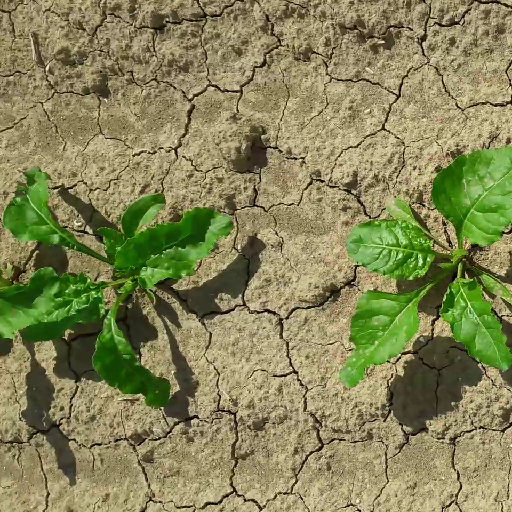sugarbeet: (1, 164, 234, 415), (335, 143, 512, 394)
